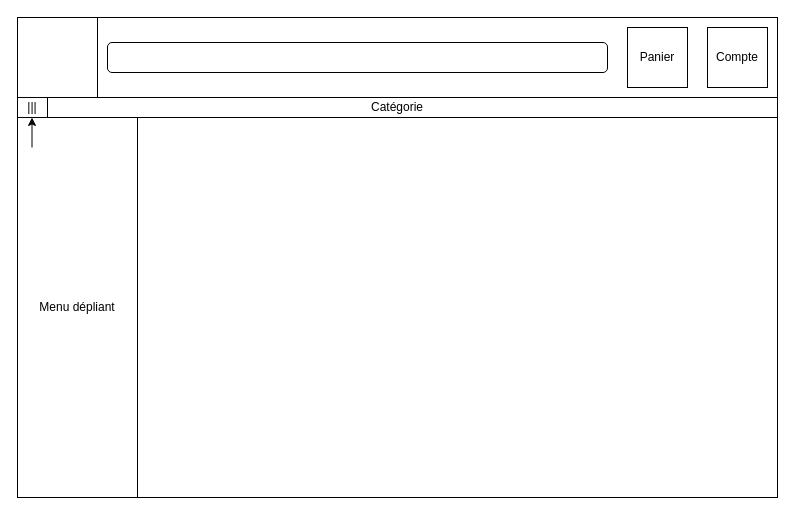
This 795x515 diagram has some shape labels left out. The centre of each missing label's shape, as x and y in pixels:
"Logo" belongs at pixel 57 57.
"Recherche" belongs at pixel 357 57.
